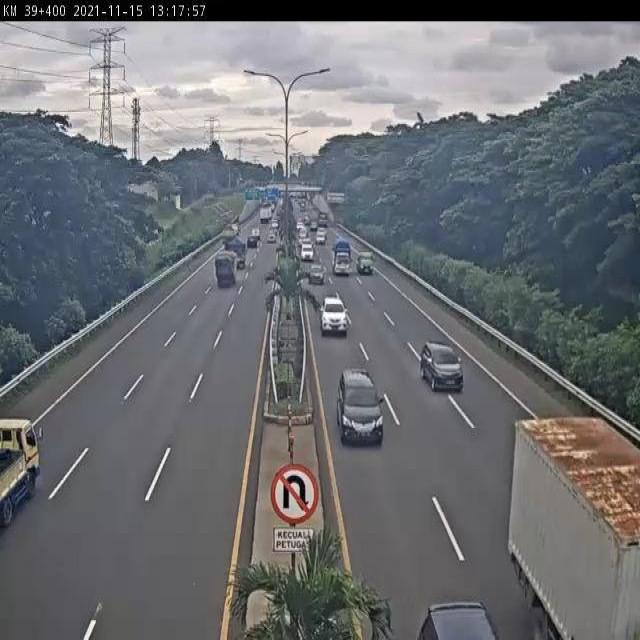car: (335, 368, 386, 447), (421, 342, 462, 389), (320, 296, 348, 337), (308, 260, 326, 283)
truck-m-: (330, 233, 352, 279), (212, 254, 236, 294), (221, 239, 245, 276)
truck-s-: (357, 251, 376, 277)
